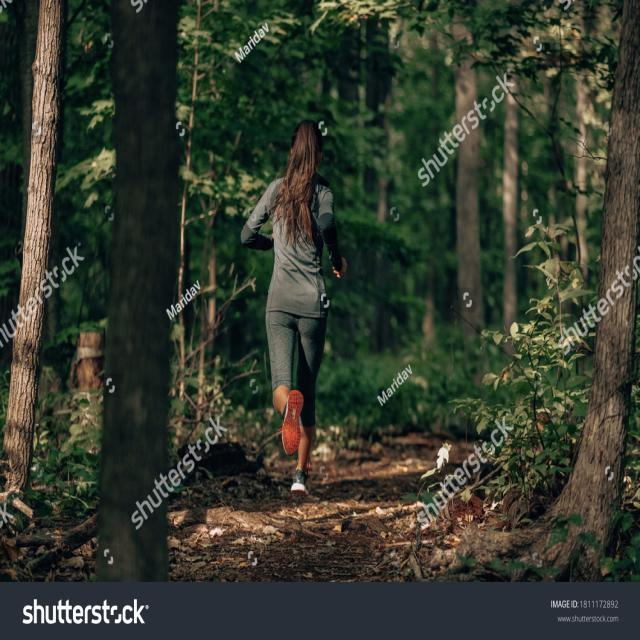running: (241, 120, 349, 498)
